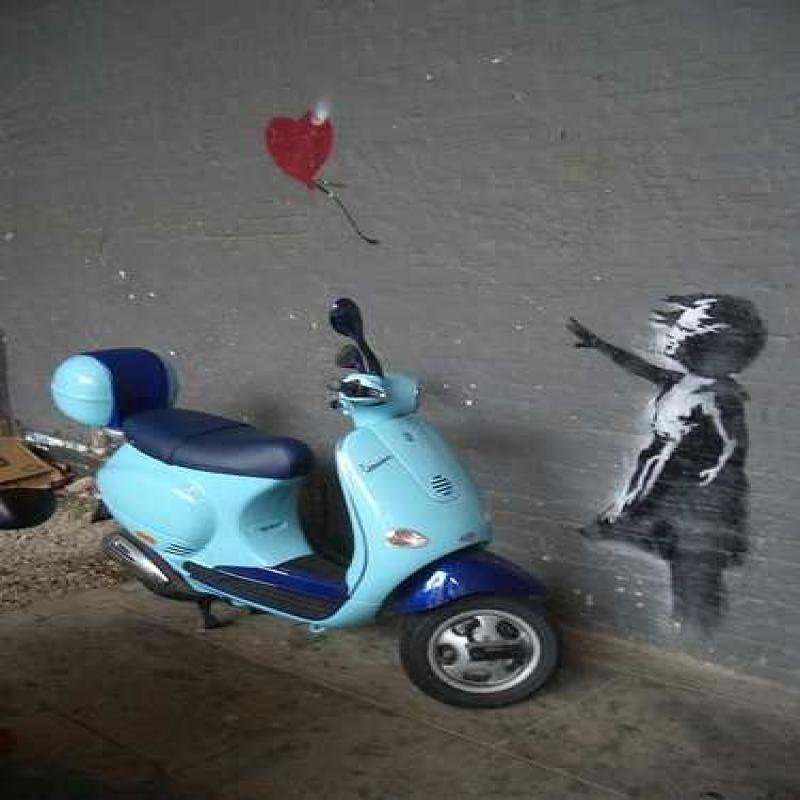bike: (46, 297, 561, 699)
